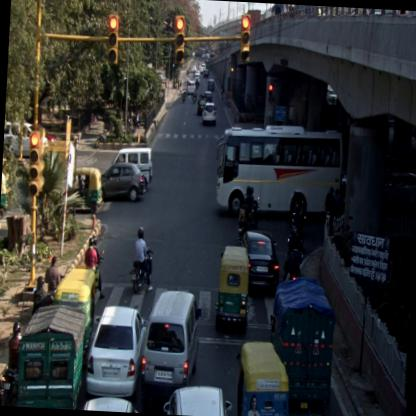bus: (214, 121, 344, 224)
car: (140, 289, 202, 387), (86, 304, 148, 401), (234, 228, 281, 296), (159, 381, 234, 415), (98, 160, 148, 203), (110, 146, 153, 184), (202, 100, 215, 126), (196, 96, 208, 115), (186, 78, 196, 96), (206, 78, 216, 93)
motorcycle: (0, 318, 23, 406), (128, 227, 157, 292), (82, 234, 107, 301), (236, 186, 260, 230), (181, 87, 187, 105), (192, 88, 198, 102)
truck: (263, 275, 336, 415), (16, 301, 87, 409)
